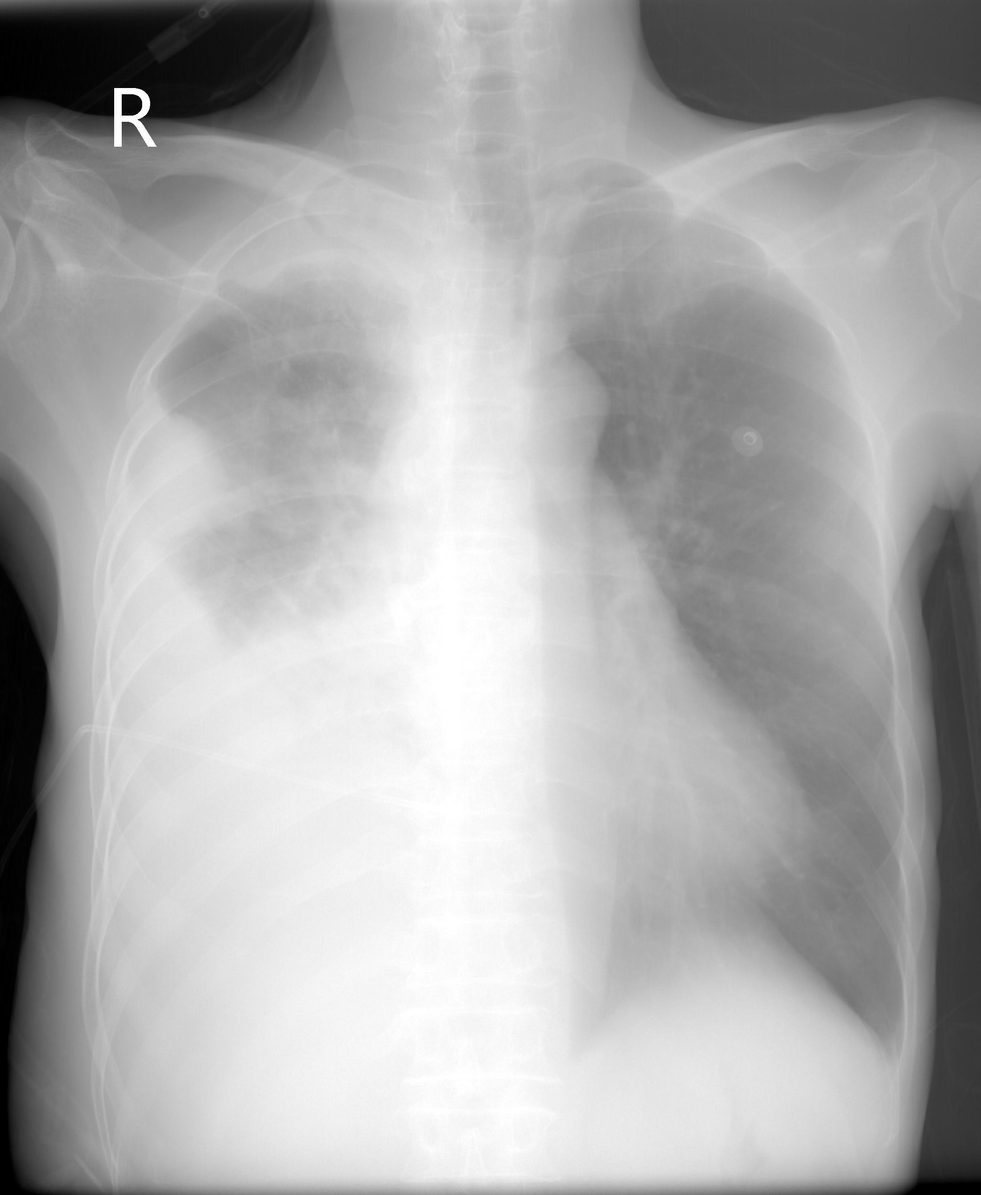Pleural thickening: (219, 197, 440, 290)
